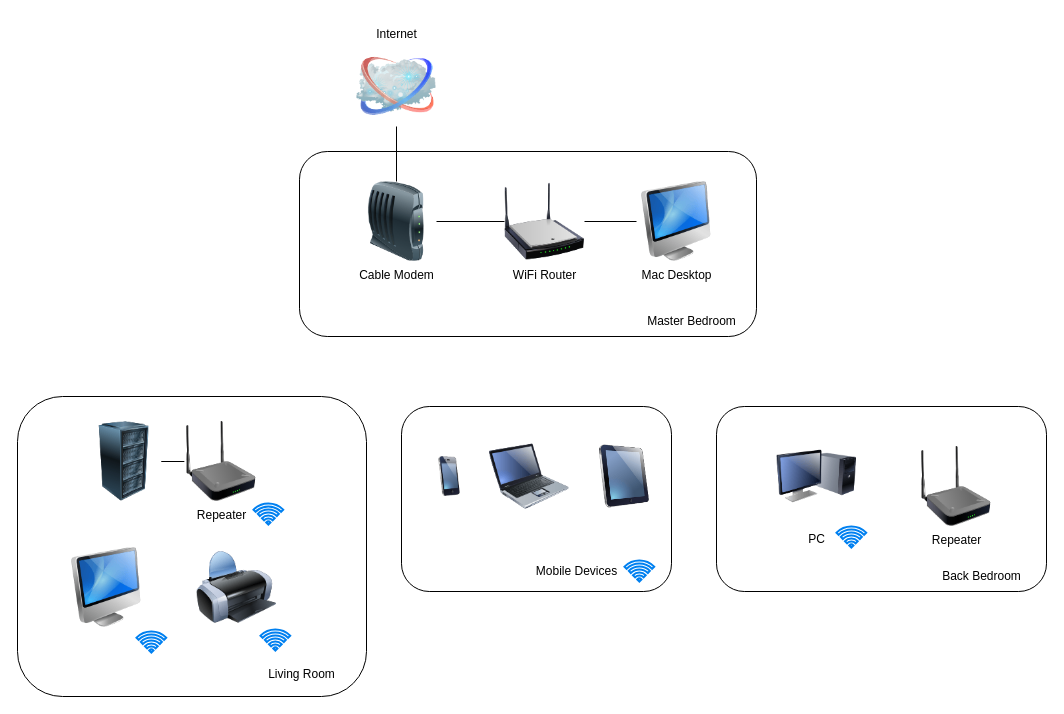
Some shapes in this 1064 by 714 pixel diagram are drawn without their labels. Here are the shapes that lost their labels. From the top down, the box of each, then its label:
(84, 421, 164, 501): NAS
(66, 547, 146, 627): Mac (TV)
(196, 547, 276, 627): Printer
